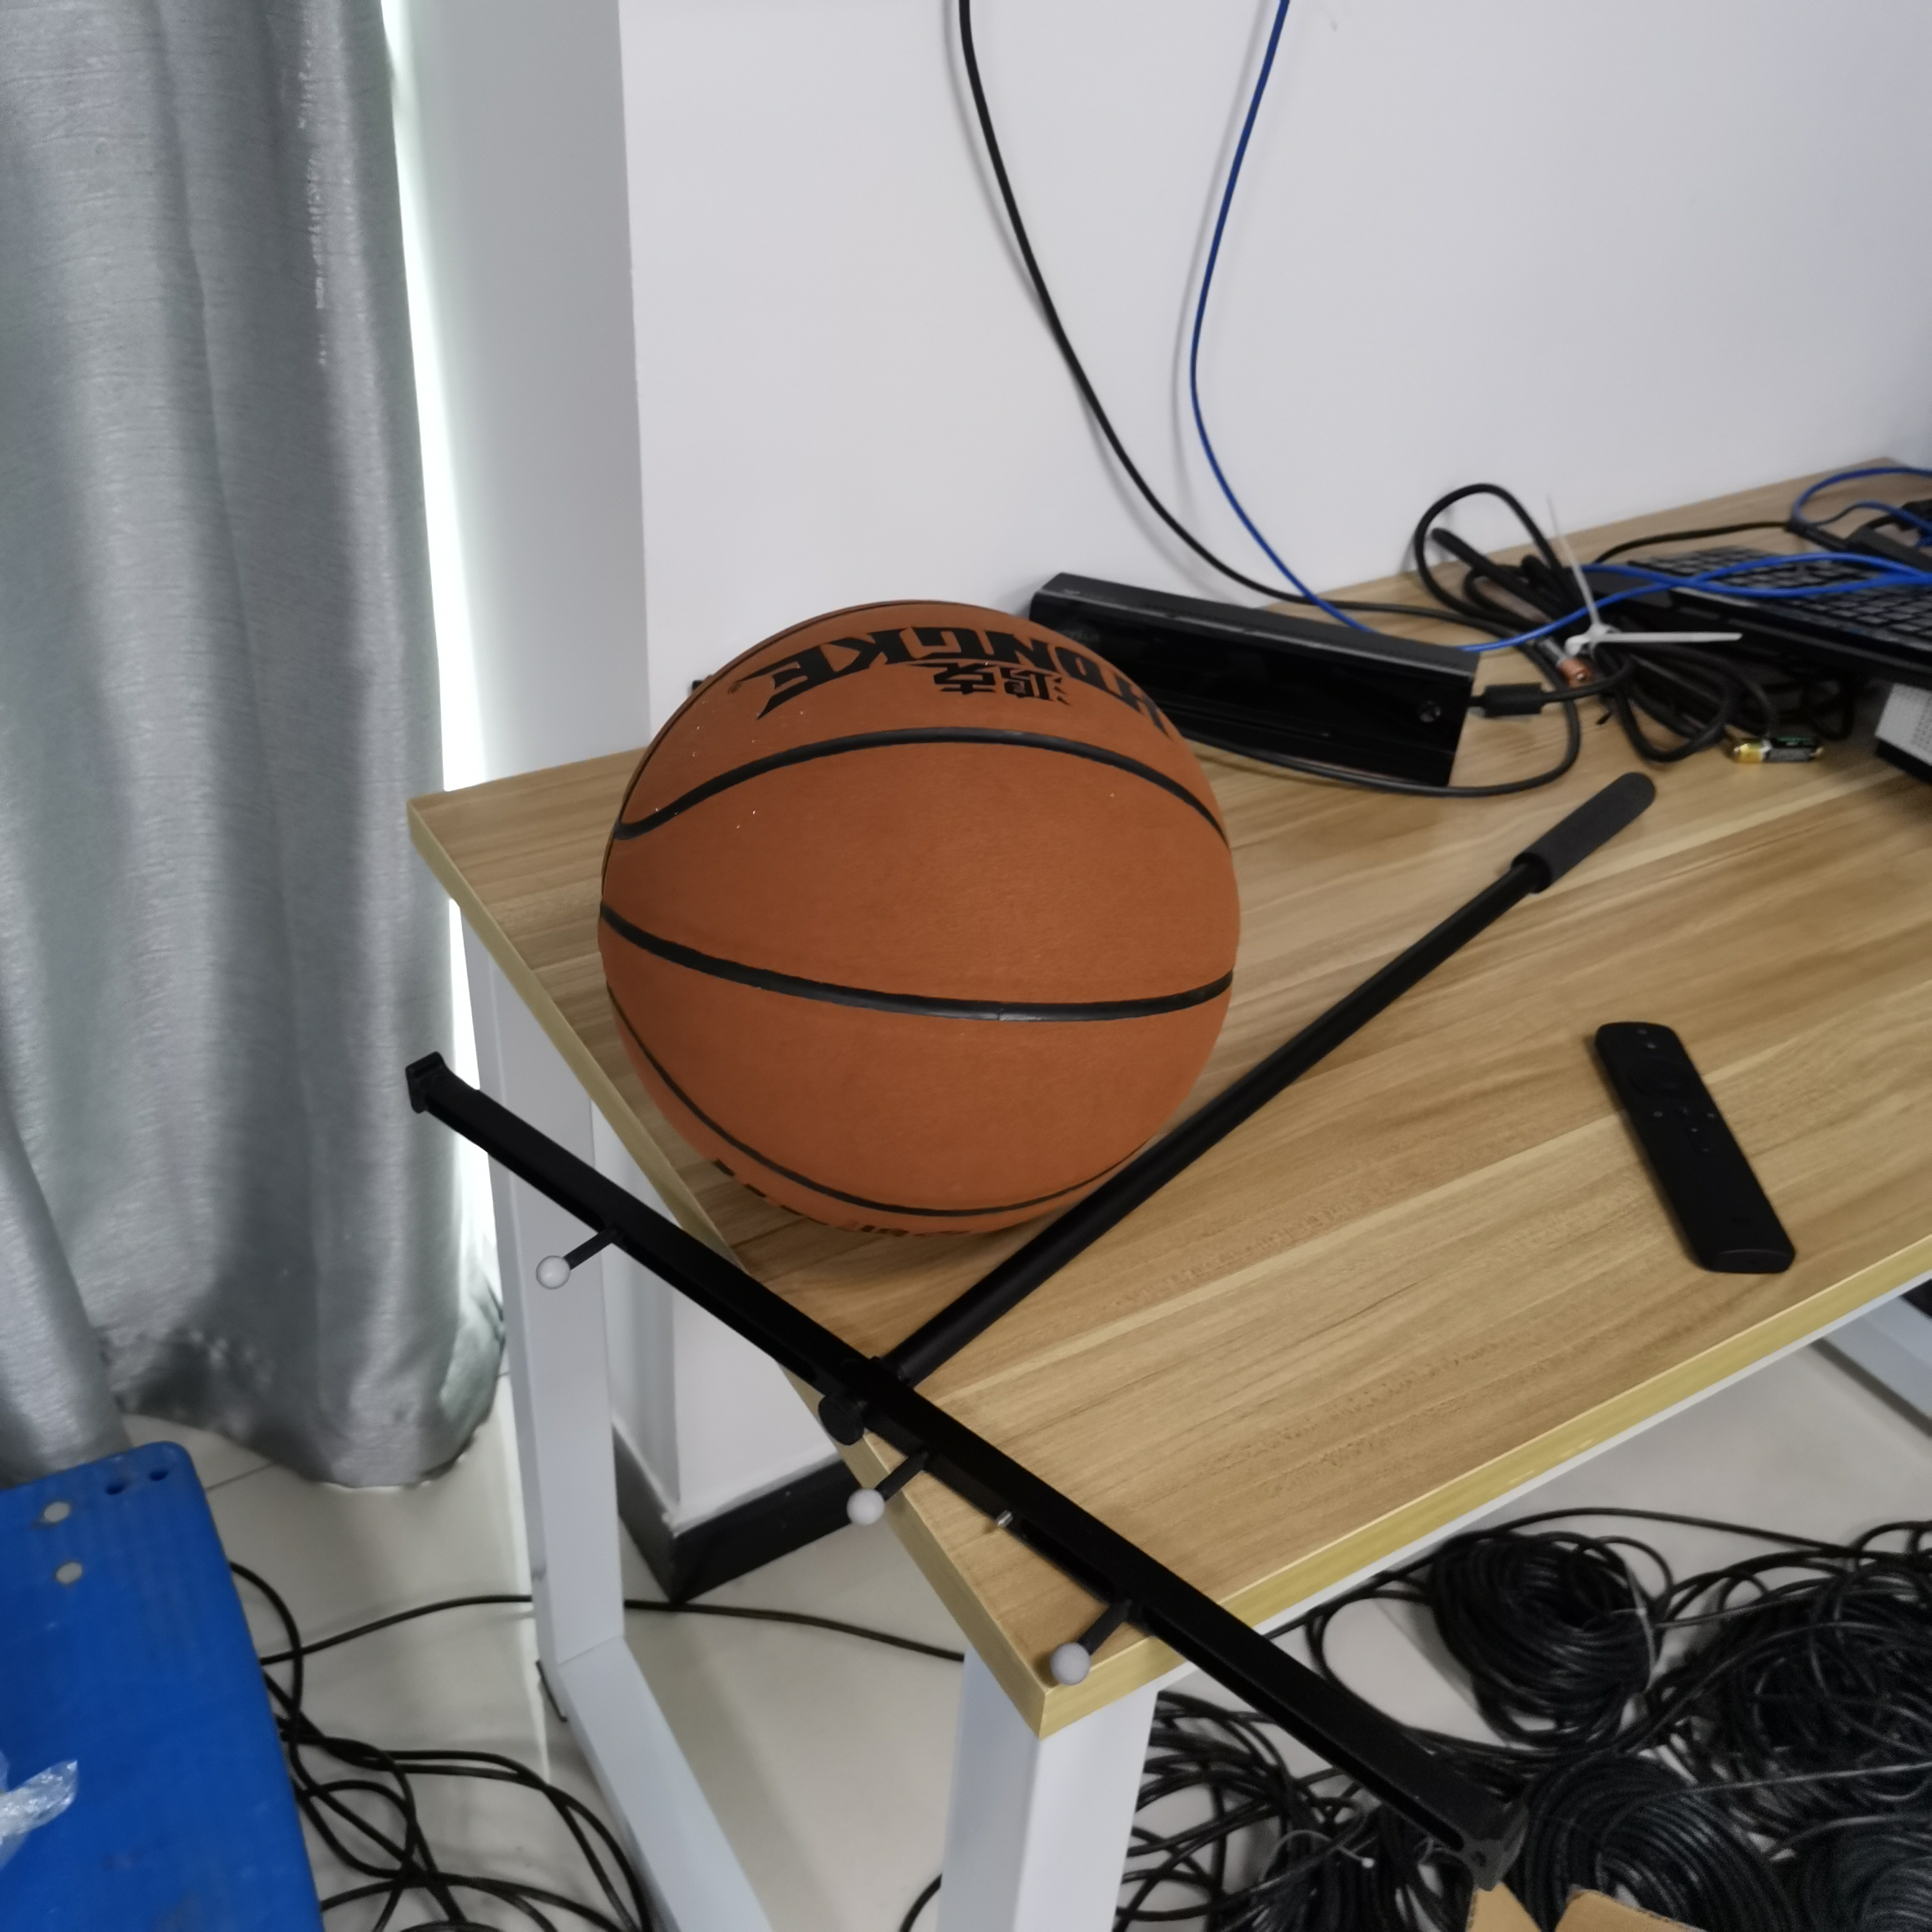basketball: (603, 596, 1238, 1233)
